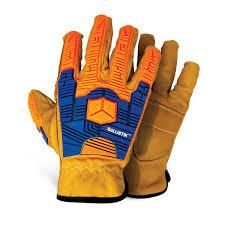gloves: (27, 14, 162, 203), (123, 31, 200, 198)
